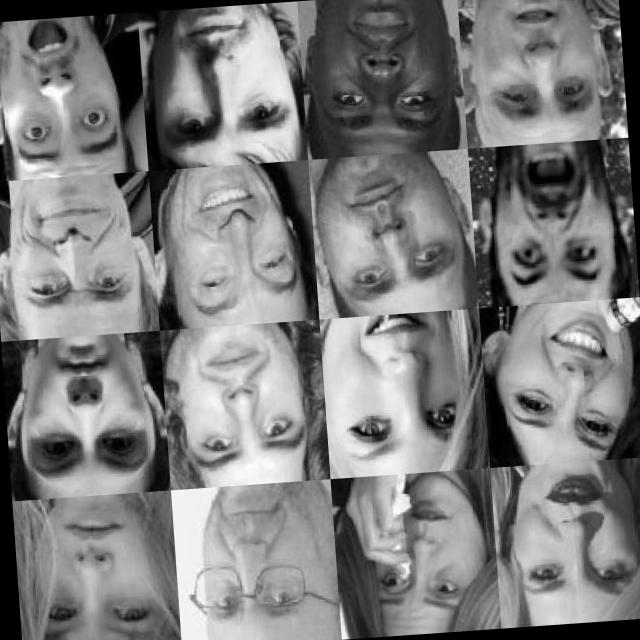fear: (486, 158, 604, 286), (0, 21, 111, 153)
happy: (494, 309, 628, 456), (3, 178, 134, 320), (164, 170, 292, 306), (334, 321, 458, 460)
neutral: (313, 0, 443, 147), (18, 338, 142, 492), (506, 471, 634, 610), (186, 493, 314, 628), (159, 19, 285, 140), (338, 165, 452, 294), (39, 507, 147, 640), (481, 0, 587, 128)
sad: (352, 478, 472, 612), (184, 340, 294, 468)
